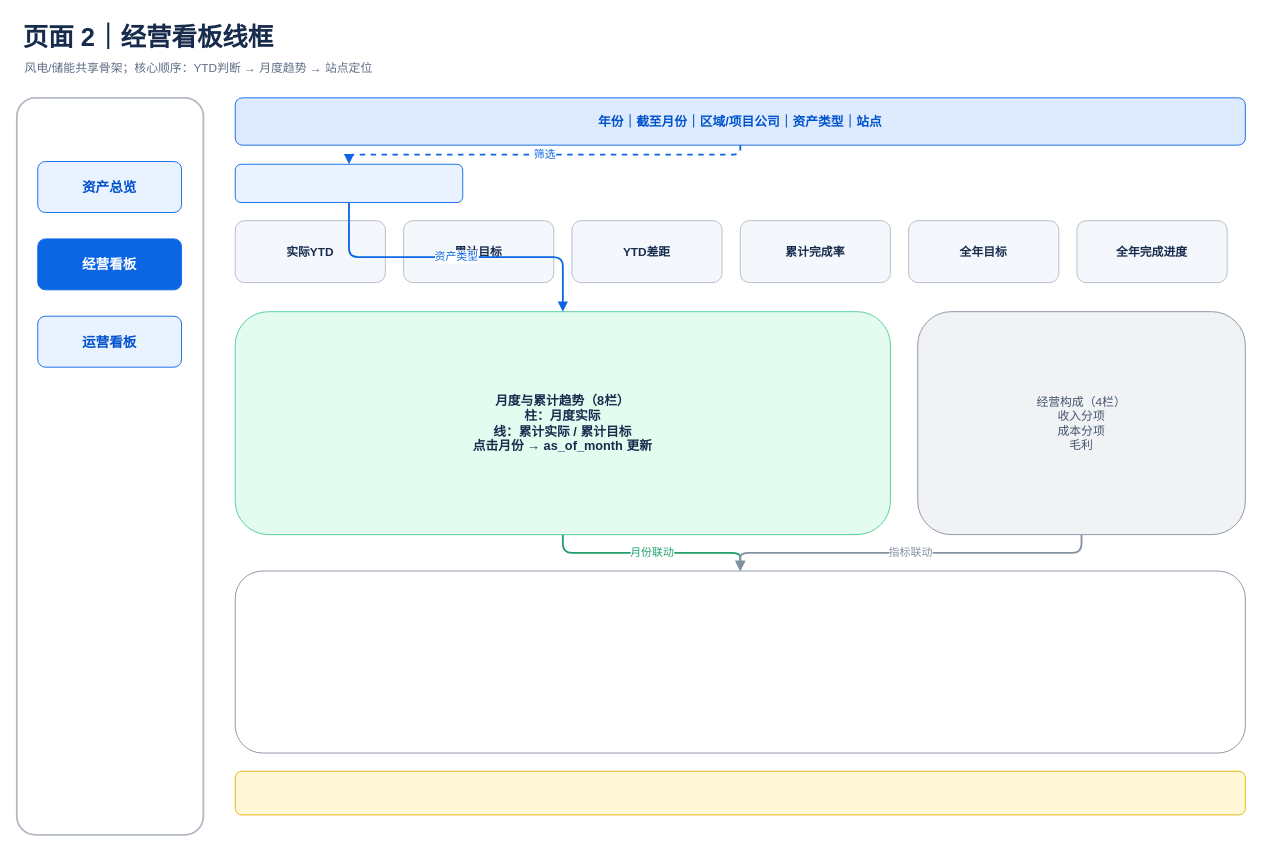
Some shapes in this 1261 by 851 pixel diagram are drawn without their labels. Each missing label, with the box of its shape:
差距方向：收入/毛利为实际−目标；成本超出目标应以负向状态呈现。同比/环比作为后续控件预留。: (234, 770, 1245, 815)
资产 Tab：风电｜储能: (234, 163, 463, 202)
逐站经营排名与对比（12栏） 站点｜实际YTD｜累计目标｜差距｜完成率｜全年目标进度｜状态 排序与 KPI/月份同步；点击站点为后续经营详情入口: (234, 570, 1245, 753)
